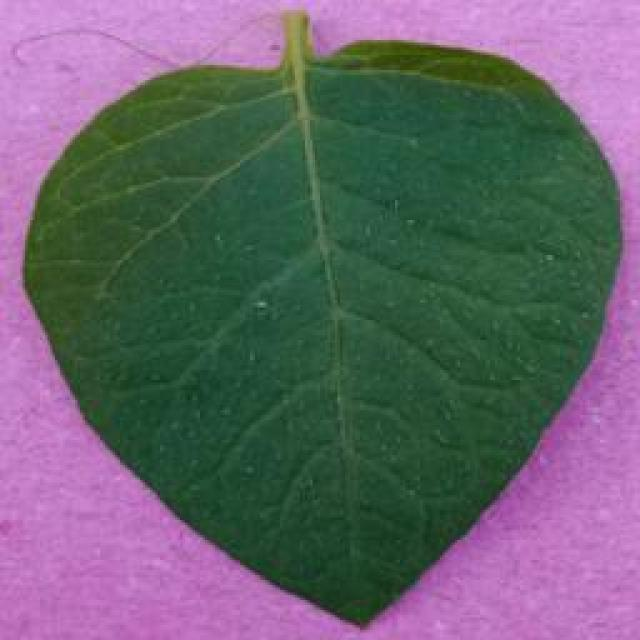Potato_Healthy: (21, 15, 618, 631)
